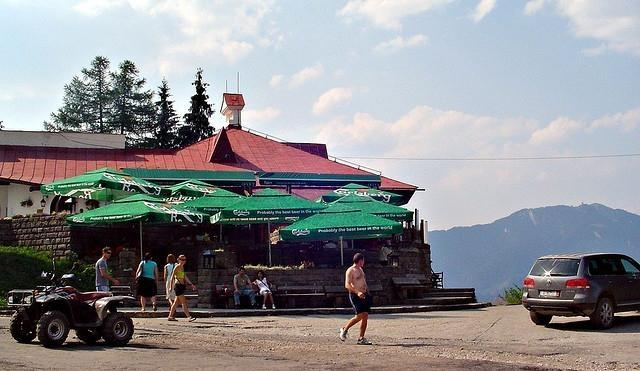car: (522, 252, 640, 330)
motorcycle: (8, 262, 137, 348)
